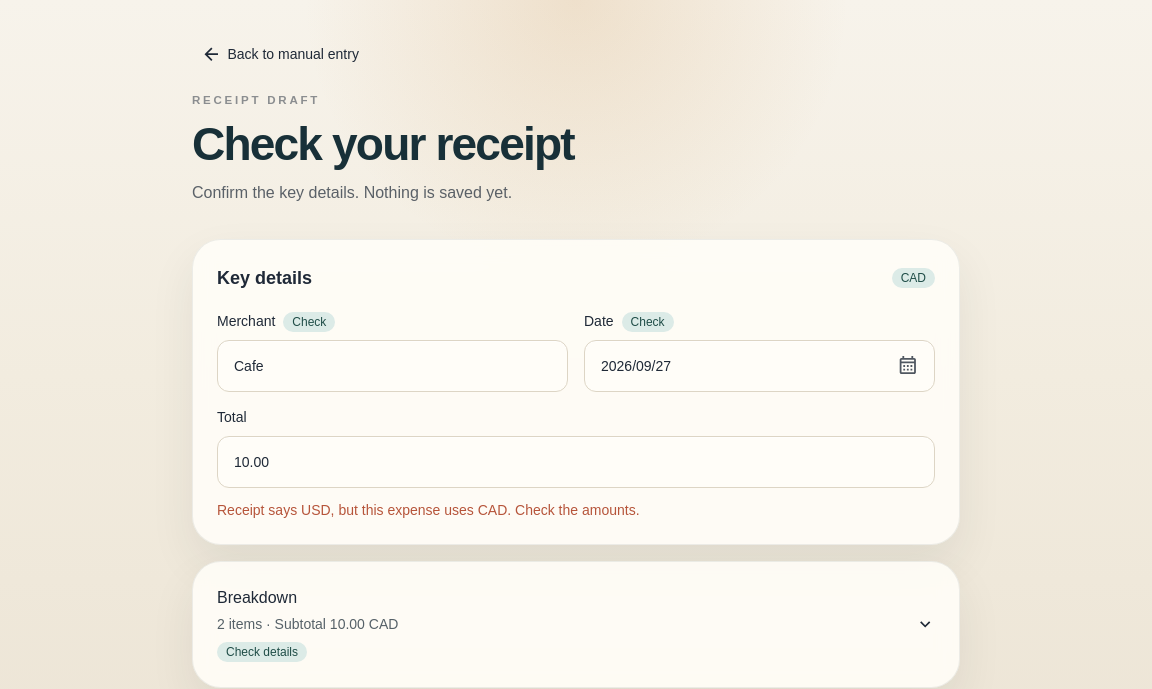
Test: ReceiptDraftReview › keeps review cues visible for flagged fields and inferred item quantity
The image size is (1152, 689).
Step 1. Click the heading "Breakdown" → {"x": 257, "y": 597}, box [217, 586, 935, 662]
(page scrolled)
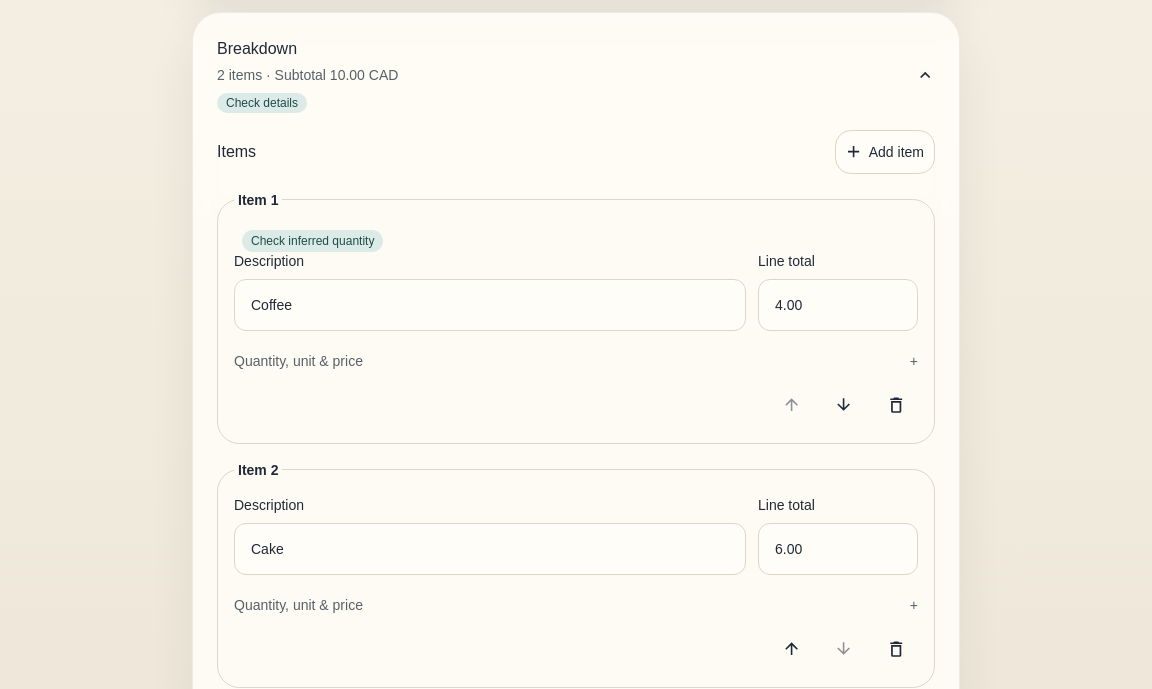
Check: the text "Check inferred quantity" is shown, box [242, 230, 383, 252]
Step 2. Click the text "Quantity, unit & price" below "Check inferred quantity" → {"x": 298, "y": 361}, box [234, 351, 363, 371]
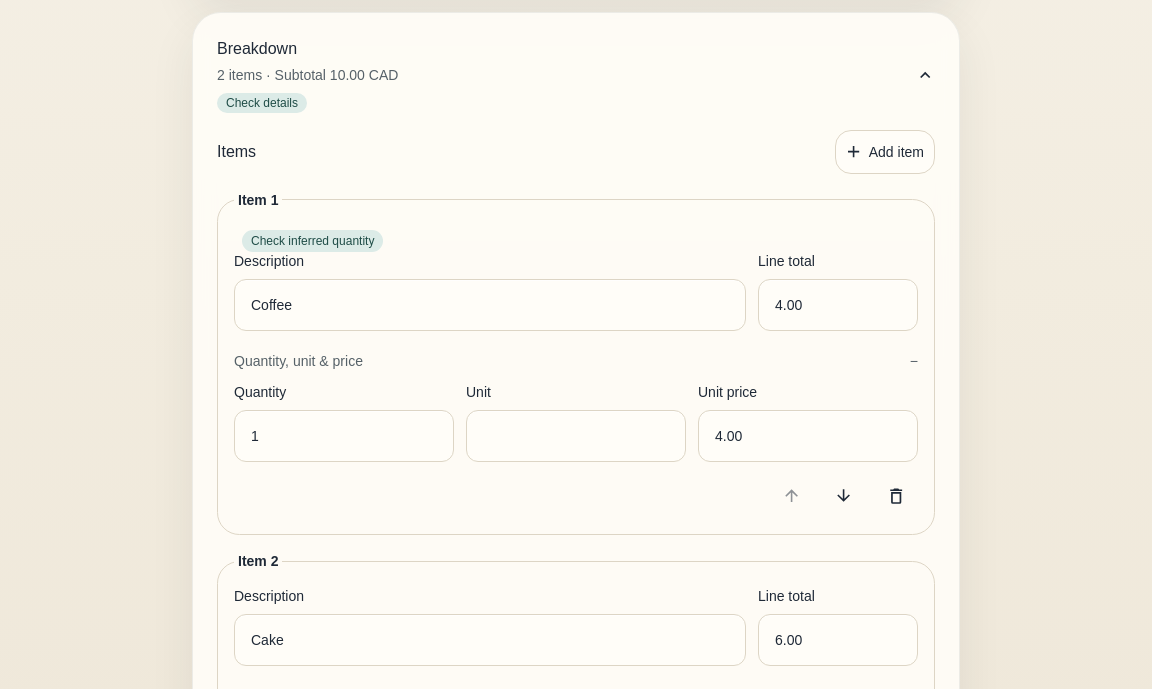
Step 3. Replace the text in the field labelled "Quantity" with "2" → {"x": 344, "y": 436}, box [234, 410, 454, 462]
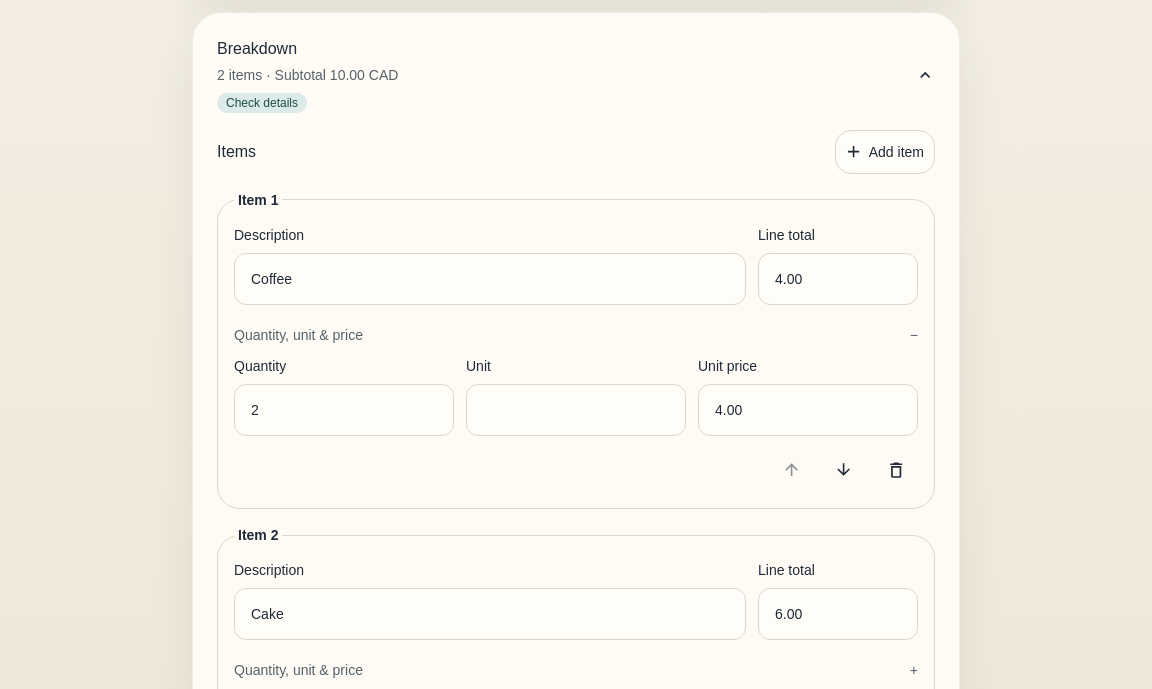
Check: the text "Check inferred quantity" is gone
